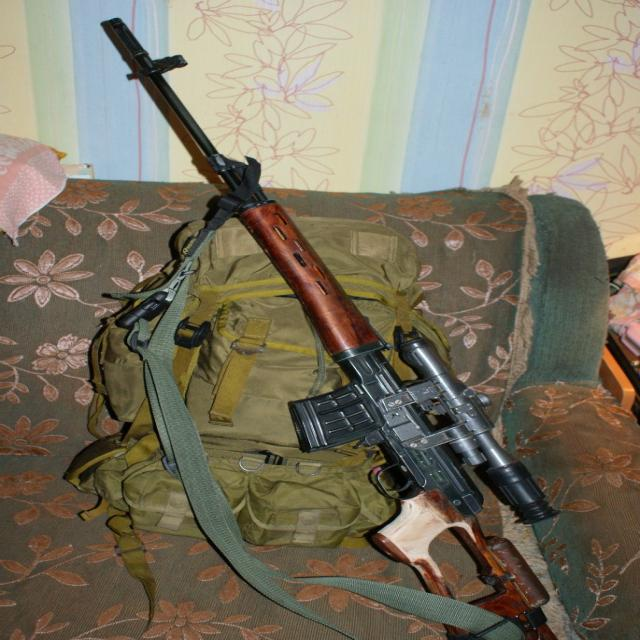firearm: (99, 14, 562, 640)
